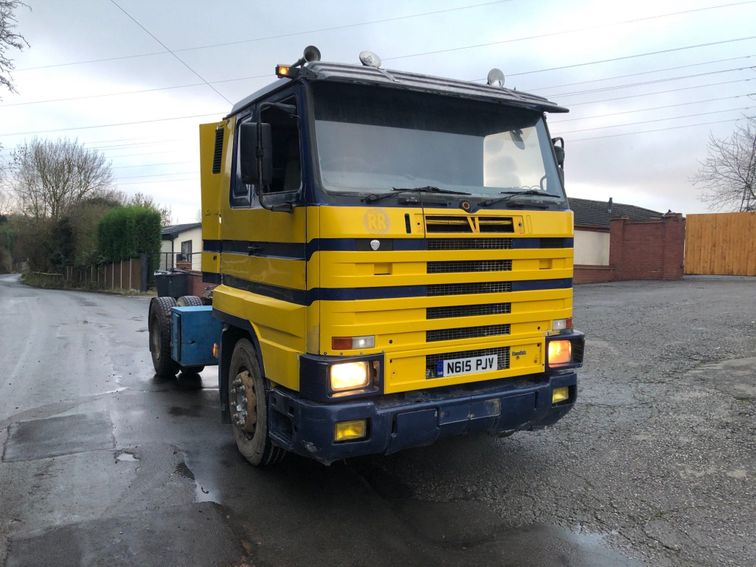Semi: (147, 45, 584, 469)
